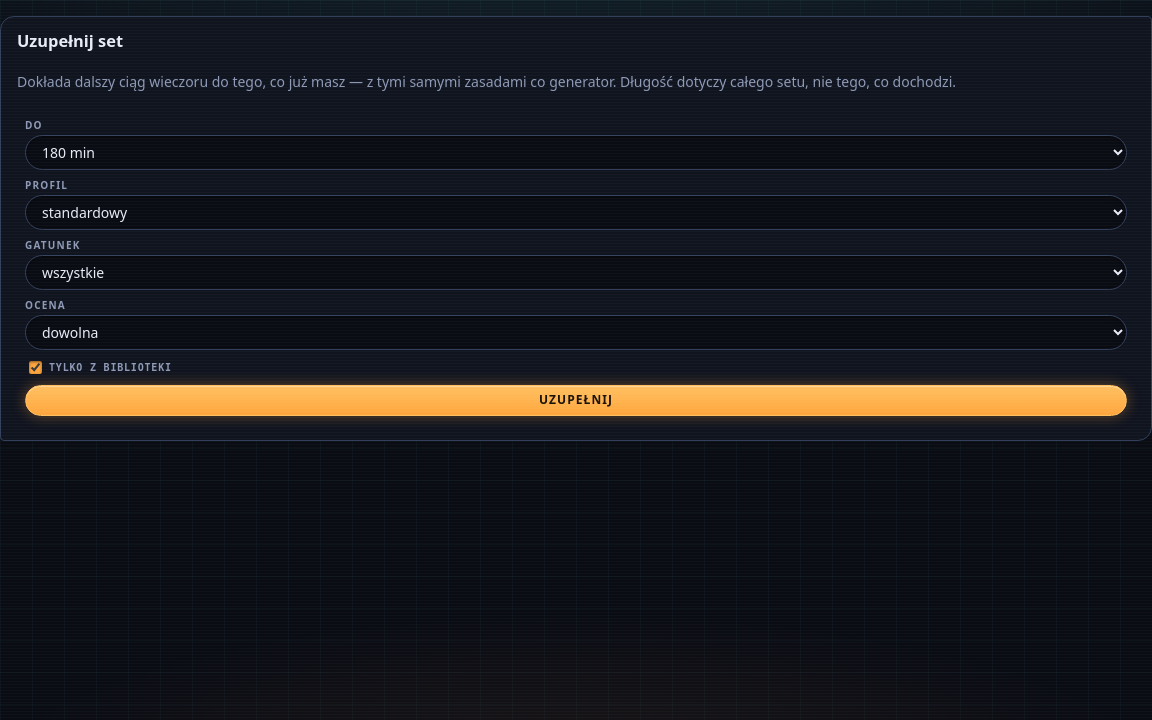
SetFillPanel › pokazuje dalszy ciąg setu wraz z notatkami, zanim cokolwiek dopisze
Click the button with test id "fill-set": (576, 401) [25,385,1127,416]
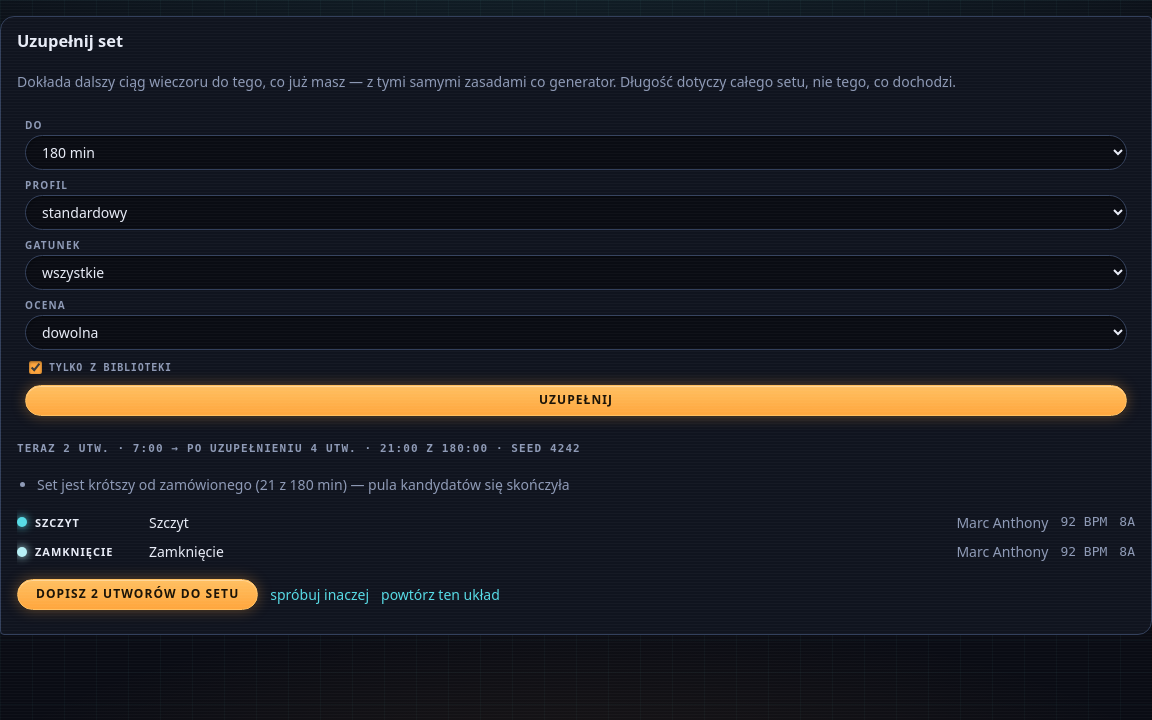
Expected: the element with test id "fill-preview" is shown, [17,440,1135,610]
Expected: the text "Szczyt" is shown, [149,512,189,532]
Expected: the element with test id "fill-notes" shows "krótszy", [37,475,570,494]
